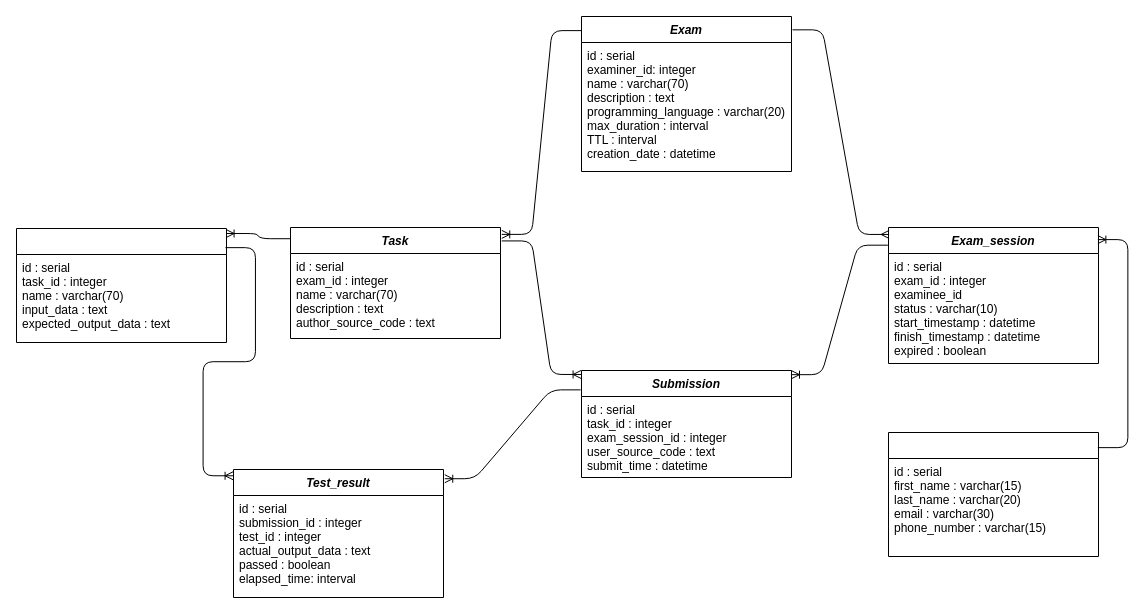
This 1144x614 diagram has some shape labels left out. The box of each missing label's shape, as (x1, y1, x2, y2) in pixels:
Examinee: (888, 432, 1098, 556)
Test: (16, 228, 226, 342)
